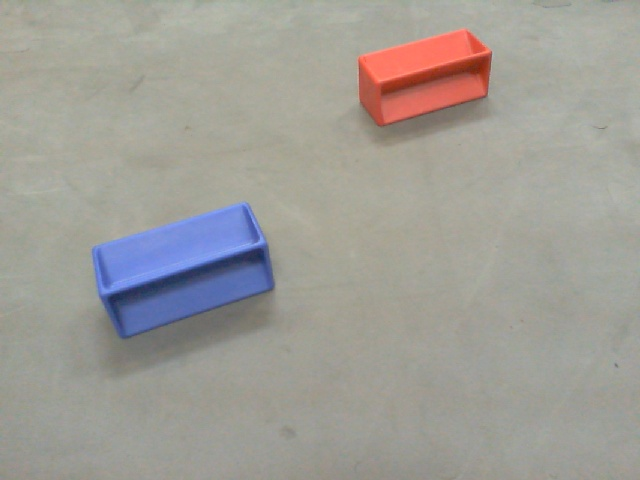BlueSample: (88, 200, 280, 344)
RedSample: (354, 26, 493, 127)
